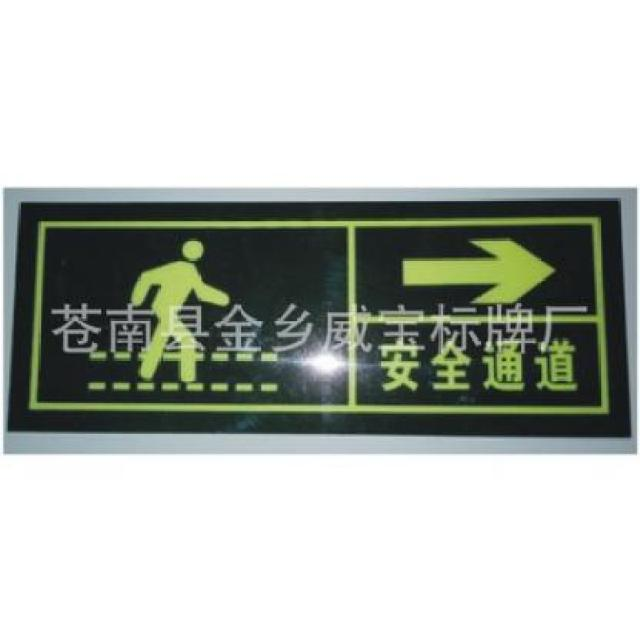exit_sign: (3, 185, 633, 450)
